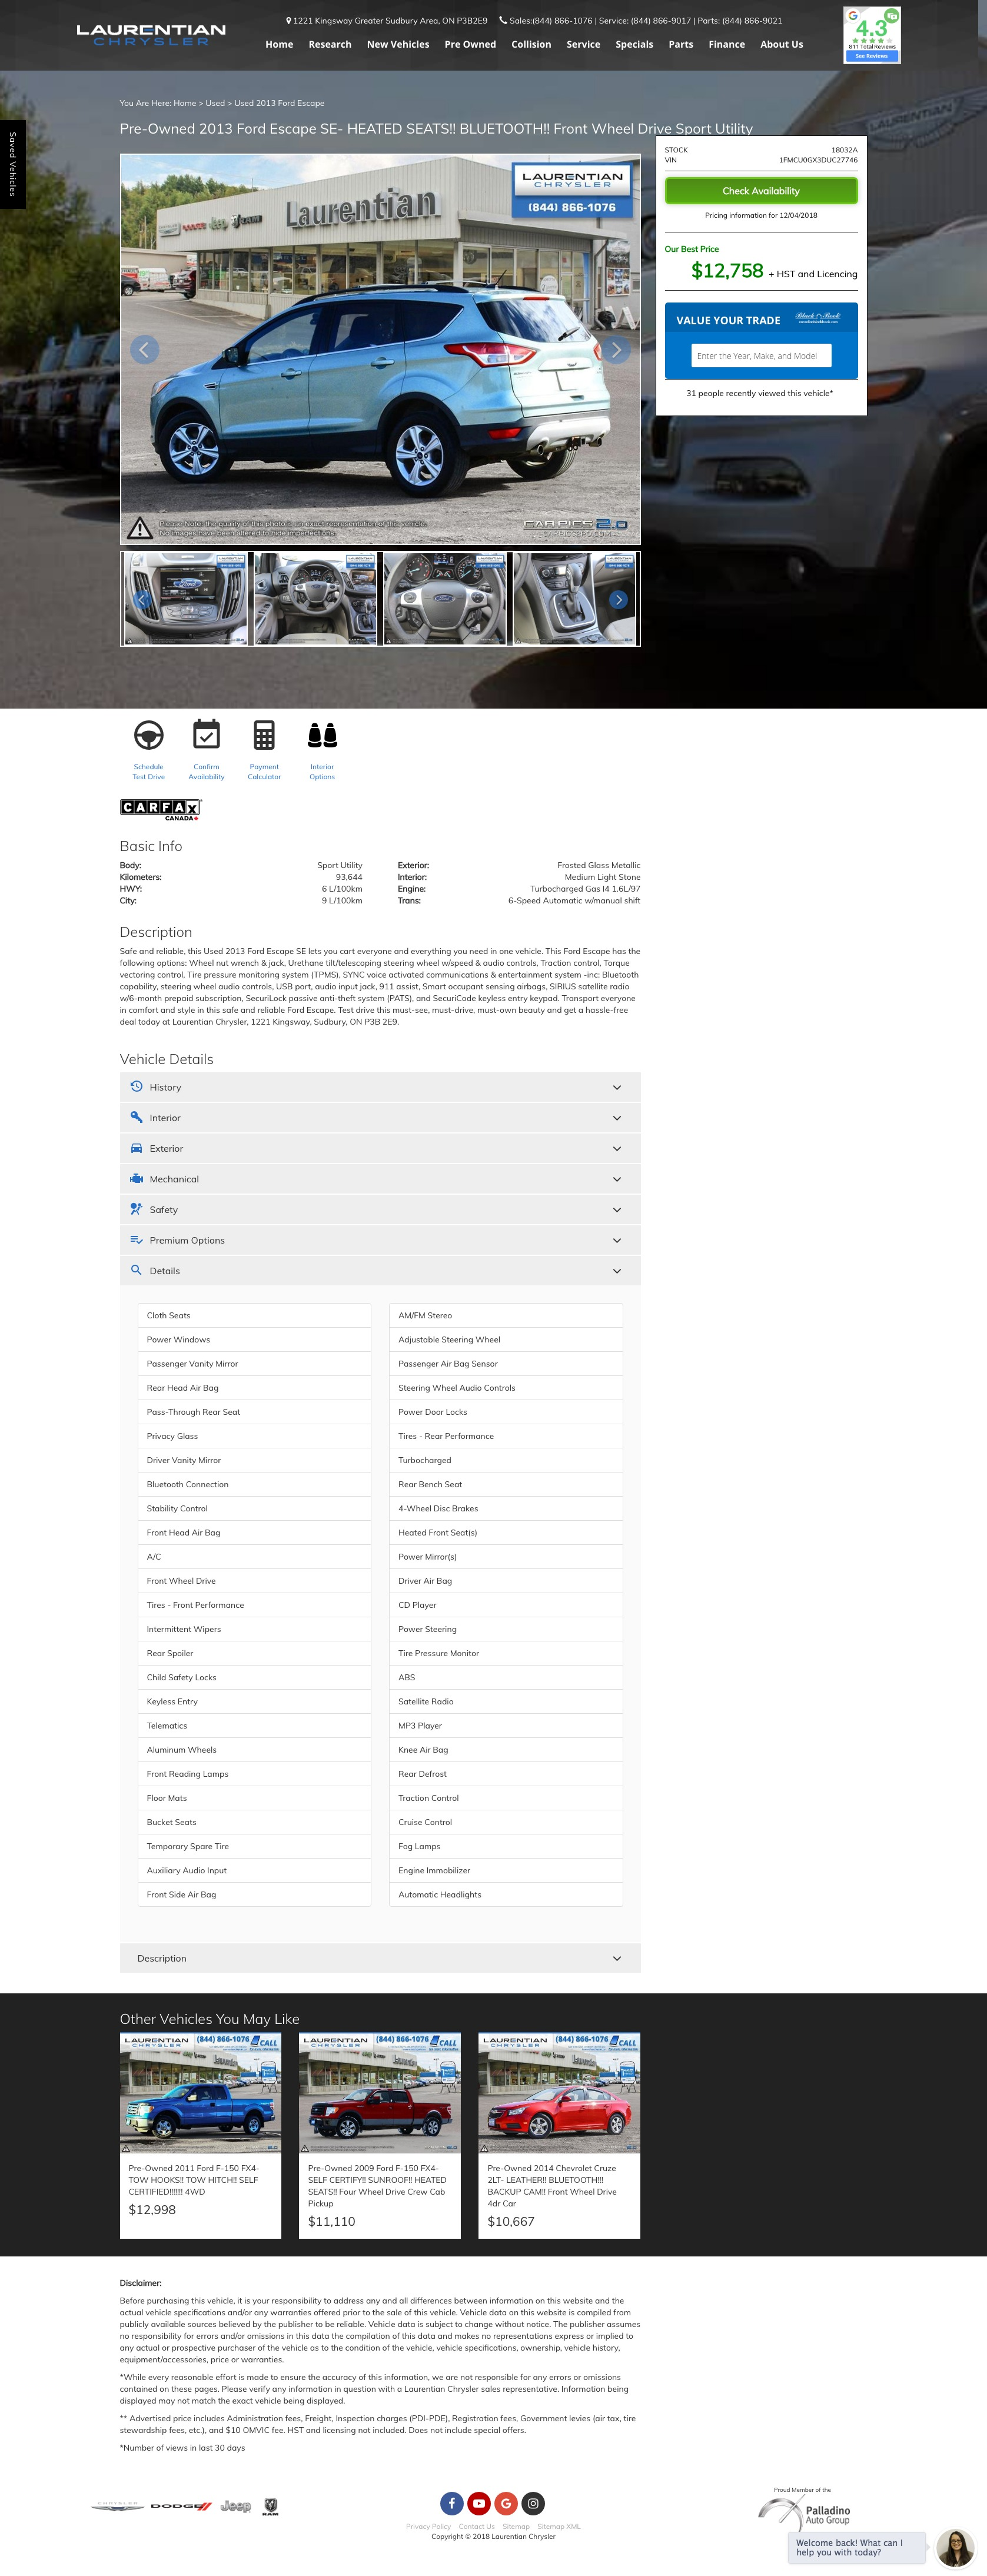car: (616, 596, 624, 606)
